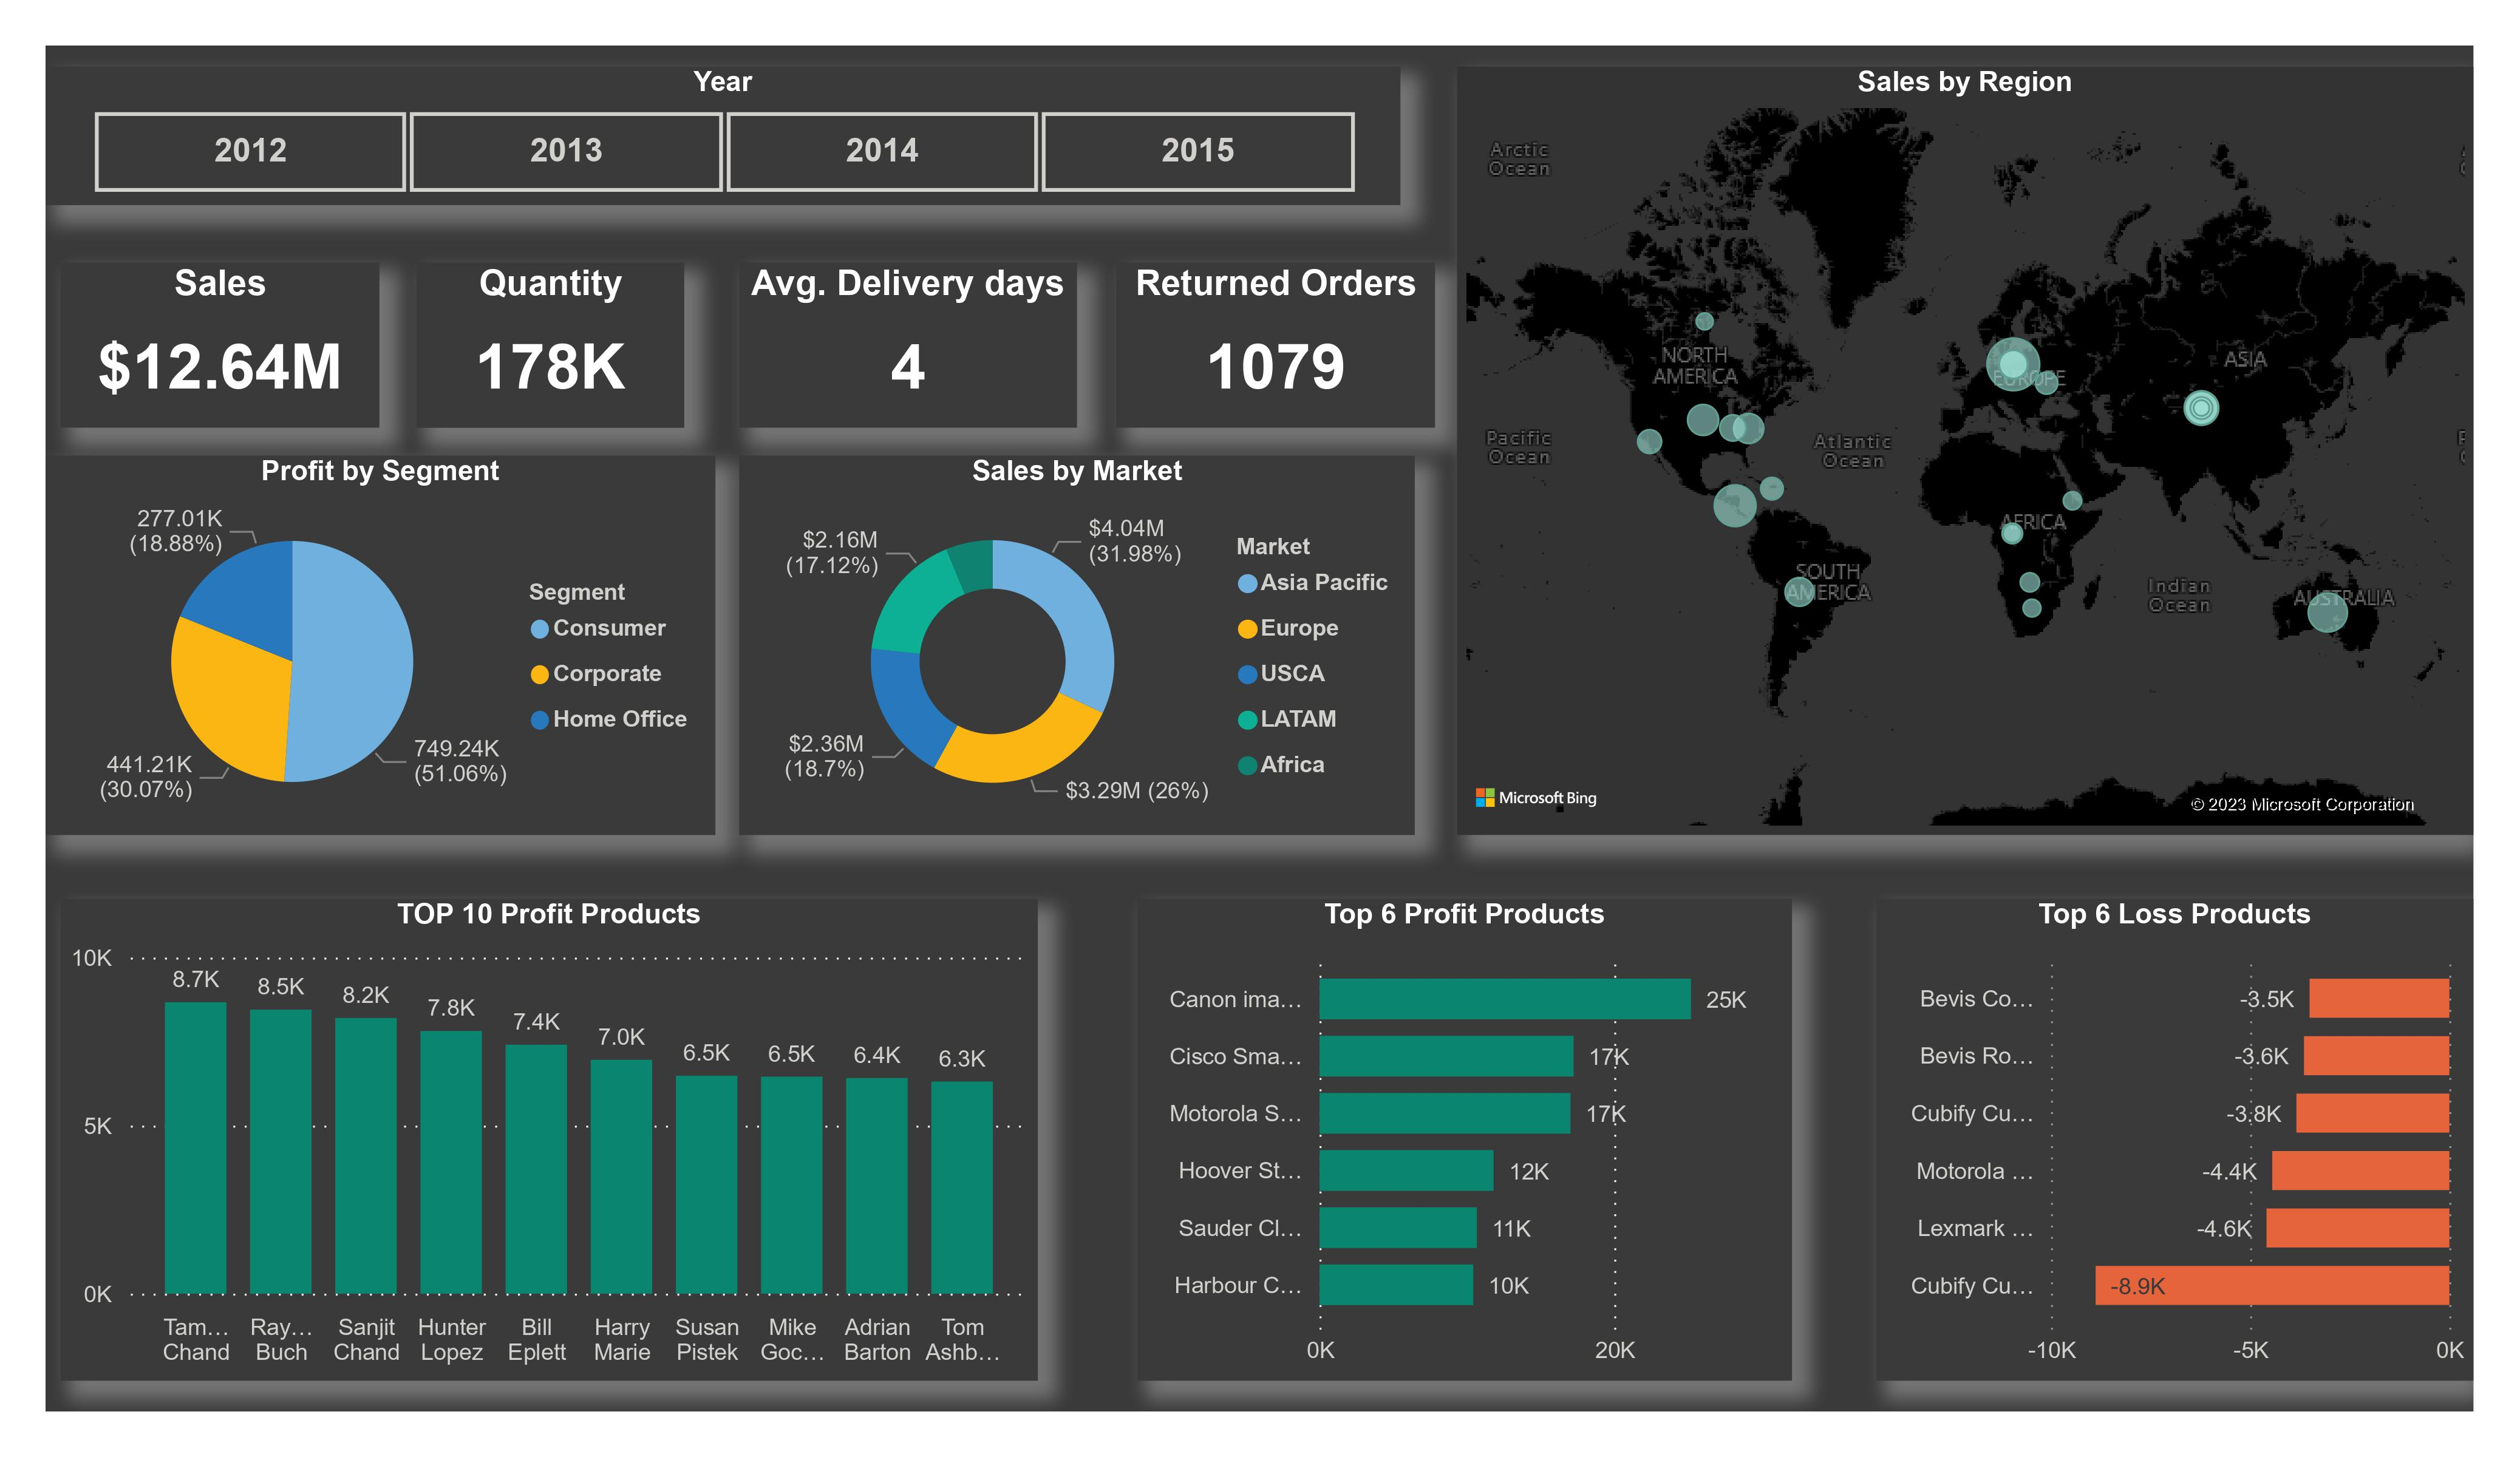

This screenshot's page, from the dashboard's own definition file:
{"tool":"powerbi","page":{"name":"Page 1","canvas":[1280,720],"ordinal":0},"visuals":[{"type":"card","title":"Sales","fields":{"Values":["Orders.Sales"]},"box":[7.9,114.4,168.5,87.4],"z":0},{"type":"card","title":"Quantity","fields":{"Values":["Orders.Quantity"]},"box":[195.5,114.4,141.5,87.4],"z":1000},{"type":"card","title":"Avg. Delivery days","fields":{"Values":["Orders.Delivery days"]},"box":[365.6,114.4,178,87.4],"z":2000},{"type":"slicer","title":"Year","fields":{"Values":["Orders.year"]},"box":[0,11.1,713.6,73.1],"z":3000},{"type":"card","title":"Returned Orders","fields":{"Values":["Returns.Return orders"]},"box":[564.2,114.4,168.5,87.4],"z":4000},{"type":"map","title":"Sales by Region","fields":{"Category":["Orders.Region"],"Size":["Orders.Sales"]},"box":[743.8,11.1,535.6,405.3],"z":5000},{"type":"barChart","title":"Top 6 Profit Products","fields":{"Y":["Orders.Profit"],"Category":["Orders.Product Name"]},"box":[575.4,449.8,344.9,254.3],"z":6000},{"type":"barChart","title":"Top 6 Loss Products","fields":{"Y":["Orders.Profit"],"Category":["Orders.Product Name"]},"box":[964.8,449.8,314.7,254.3],"z":7000},{"type":"pieChart","title":"Profit by Segment","fields":{"Category":["Orders.Segment"],"Y":["Orders.Profit"]},"box":[0,216.2,352.8,200.3],"z":8000},{"type":"donutChart","title":"Sales by Market","fields":{"Category":["Orders.Market"],"Y":["Orders.Sales"]},"box":[365.6,216.2,356,200.3],"z":9000},{"type":"columnChart","title":"TOP 10 Profit Products","fields":{"Category":["Orders.Customer Name"],"Y":["Orders.Profit"]},"box":[7.9,449.8,515,254.3],"z":10000}]}

Visuals, with their boxes on the page's 1280x720 design canvas (x1, y1, x2, y2). These are canvas units, not pixel positions in the 2520x1457 screenshot, which may show the page scaled, cropped or inside an application window:
"Sales" card: (left=8, top=114, right=176, bottom=202)
"Quantity" card: (left=196, top=114, right=337, bottom=202)
"Avg. Delivery days" card: (left=366, top=114, right=544, bottom=202)
"Year" slicer: (left=0, top=11, right=714, bottom=84)
"Returned Orders" card: (left=564, top=114, right=733, bottom=202)
"Sales by Region" map: (left=744, top=11, right=1279, bottom=416)
"Top 6 Profit Products" barChart: (left=575, top=450, right=920, bottom=704)
"Top 6 Loss Products" barChart: (left=965, top=450, right=1280, bottom=704)
"Profit by Segment" pieChart: (left=0, top=216, right=353, bottom=416)
"Sales by Market" donutChart: (left=366, top=216, right=722, bottom=416)
"TOP 10 Profit Products" columnChart: (left=8, top=450, right=523, bottom=704)
